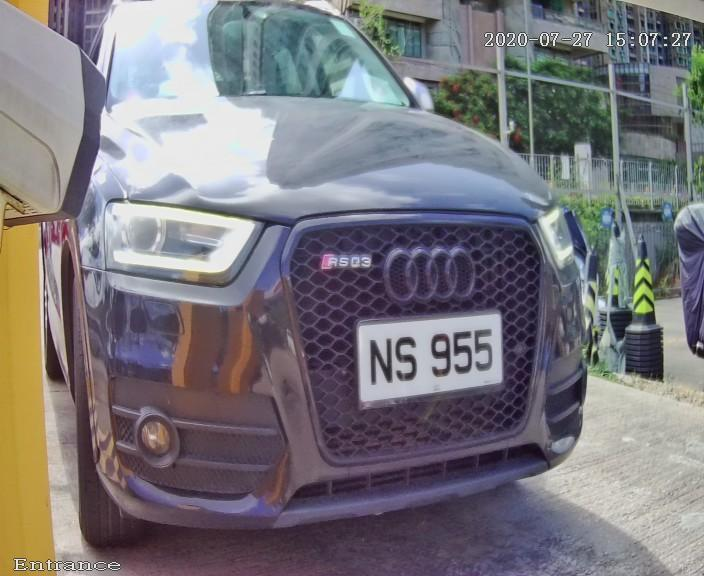privatecar: (41, 19, 617, 543)
